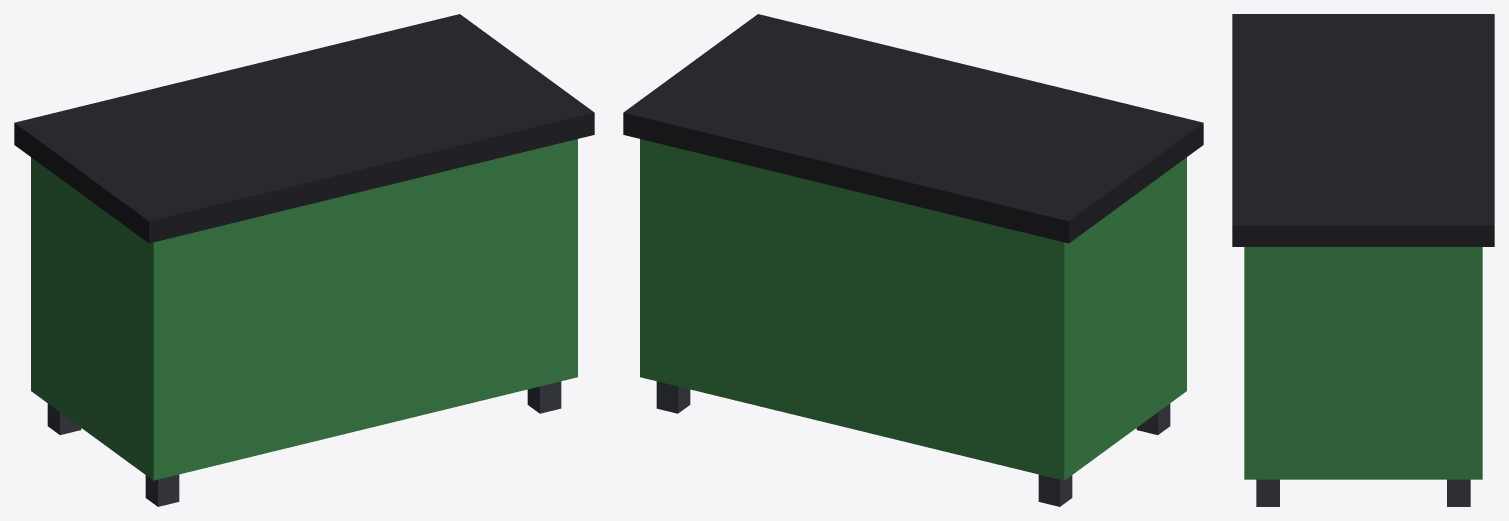
The model's file is dumpster.glb.
The picture shows the model from 3 angles, left to right: view 1: azimuth 30°, elevation 25°; view 2: azimuth 150°, elevation 25°; view 3: azimuth 270°, elevation 25°; orthographic projection. The views are drawn at different scales.
Visible parts, largest first — view 1: dumpster; view 2: dumpster; view 3: dumpster.
Boxes of the visible parts, left/top/right/bottom form: dumpster: left=14, top=14, right=594, bottom=506; dumpster: left=623, top=14, right=1203, bottom=506; dumpster: left=1232, top=14, right=1494, bottom=506.
Bounding box in the file's own units: 2.1 × 1.35 × 1.1.
